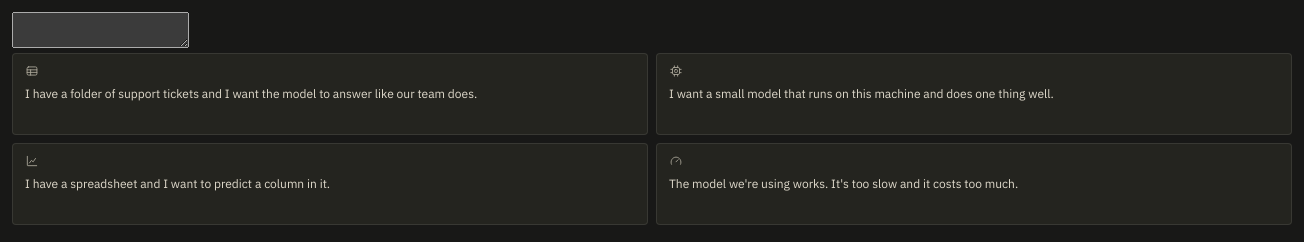
Test: a stranger clicking a starting point › puts the sentence in the composer
The image size is (1304, 242).
Click the button named "I have a folder of support tickets and I want the model to answer like our team does.".
click(330, 94)  # box [12,53,648,135]
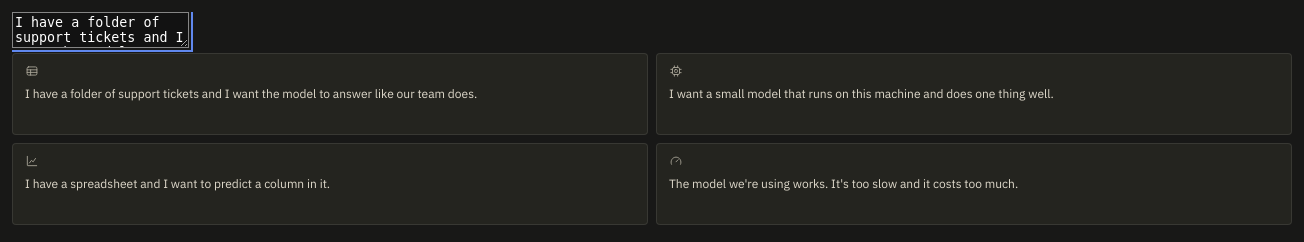
Result: the text box holds "I have a folder of support tickets and I want the model to answer like our team does." at [12,12,189,48]
